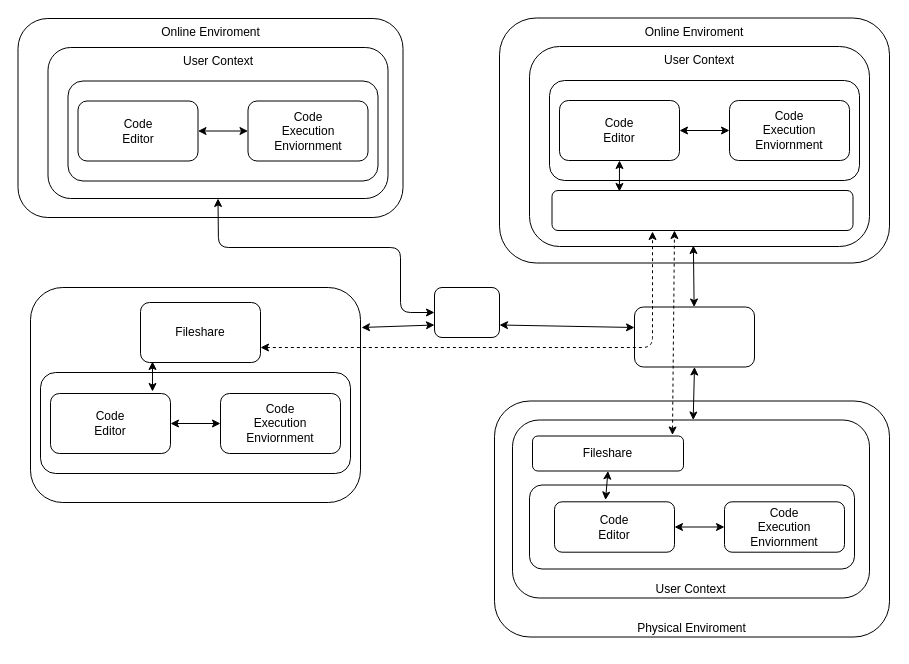
The diagram is 909 pixels wide and 664 high, and some of its shapes have lost their labels. Here are the shapes that lost their labels. From the top down, the box of each, then its label:
(551, 190, 853, 230): Personal filestore
(434, 286, 500, 338): Learner
(634, 306, 754, 367): Auth
(30, 286, 360, 502): Personal Environment
